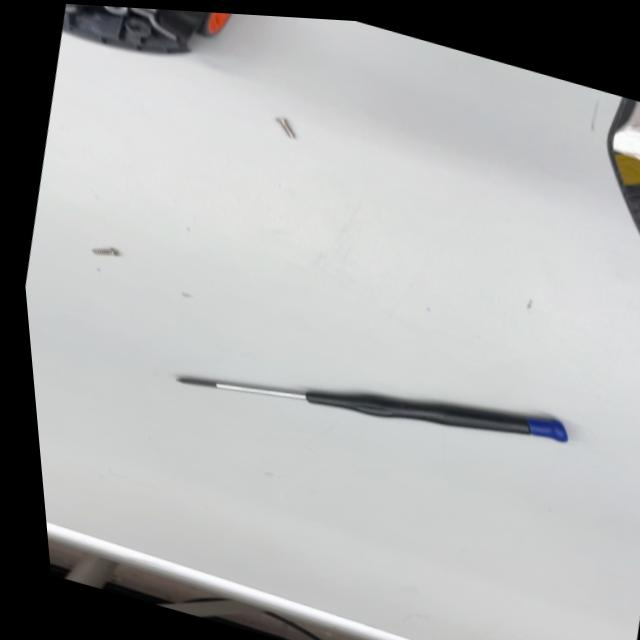screw: (69, 227, 131, 266), (257, 108, 311, 152)
screw_driver: (156, 301, 598, 503)
